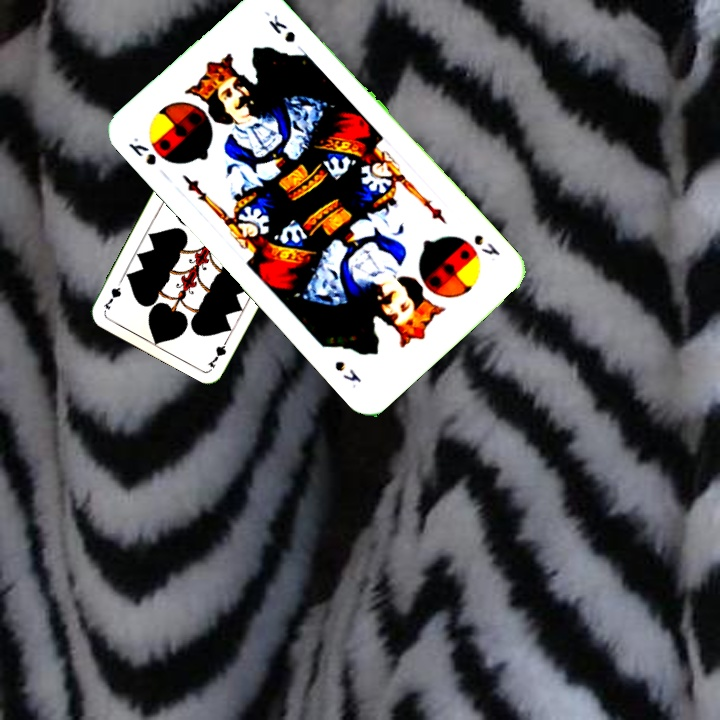G7: (203, 332, 232, 370)
SK: (124, 133, 160, 168), (470, 230, 503, 258)
